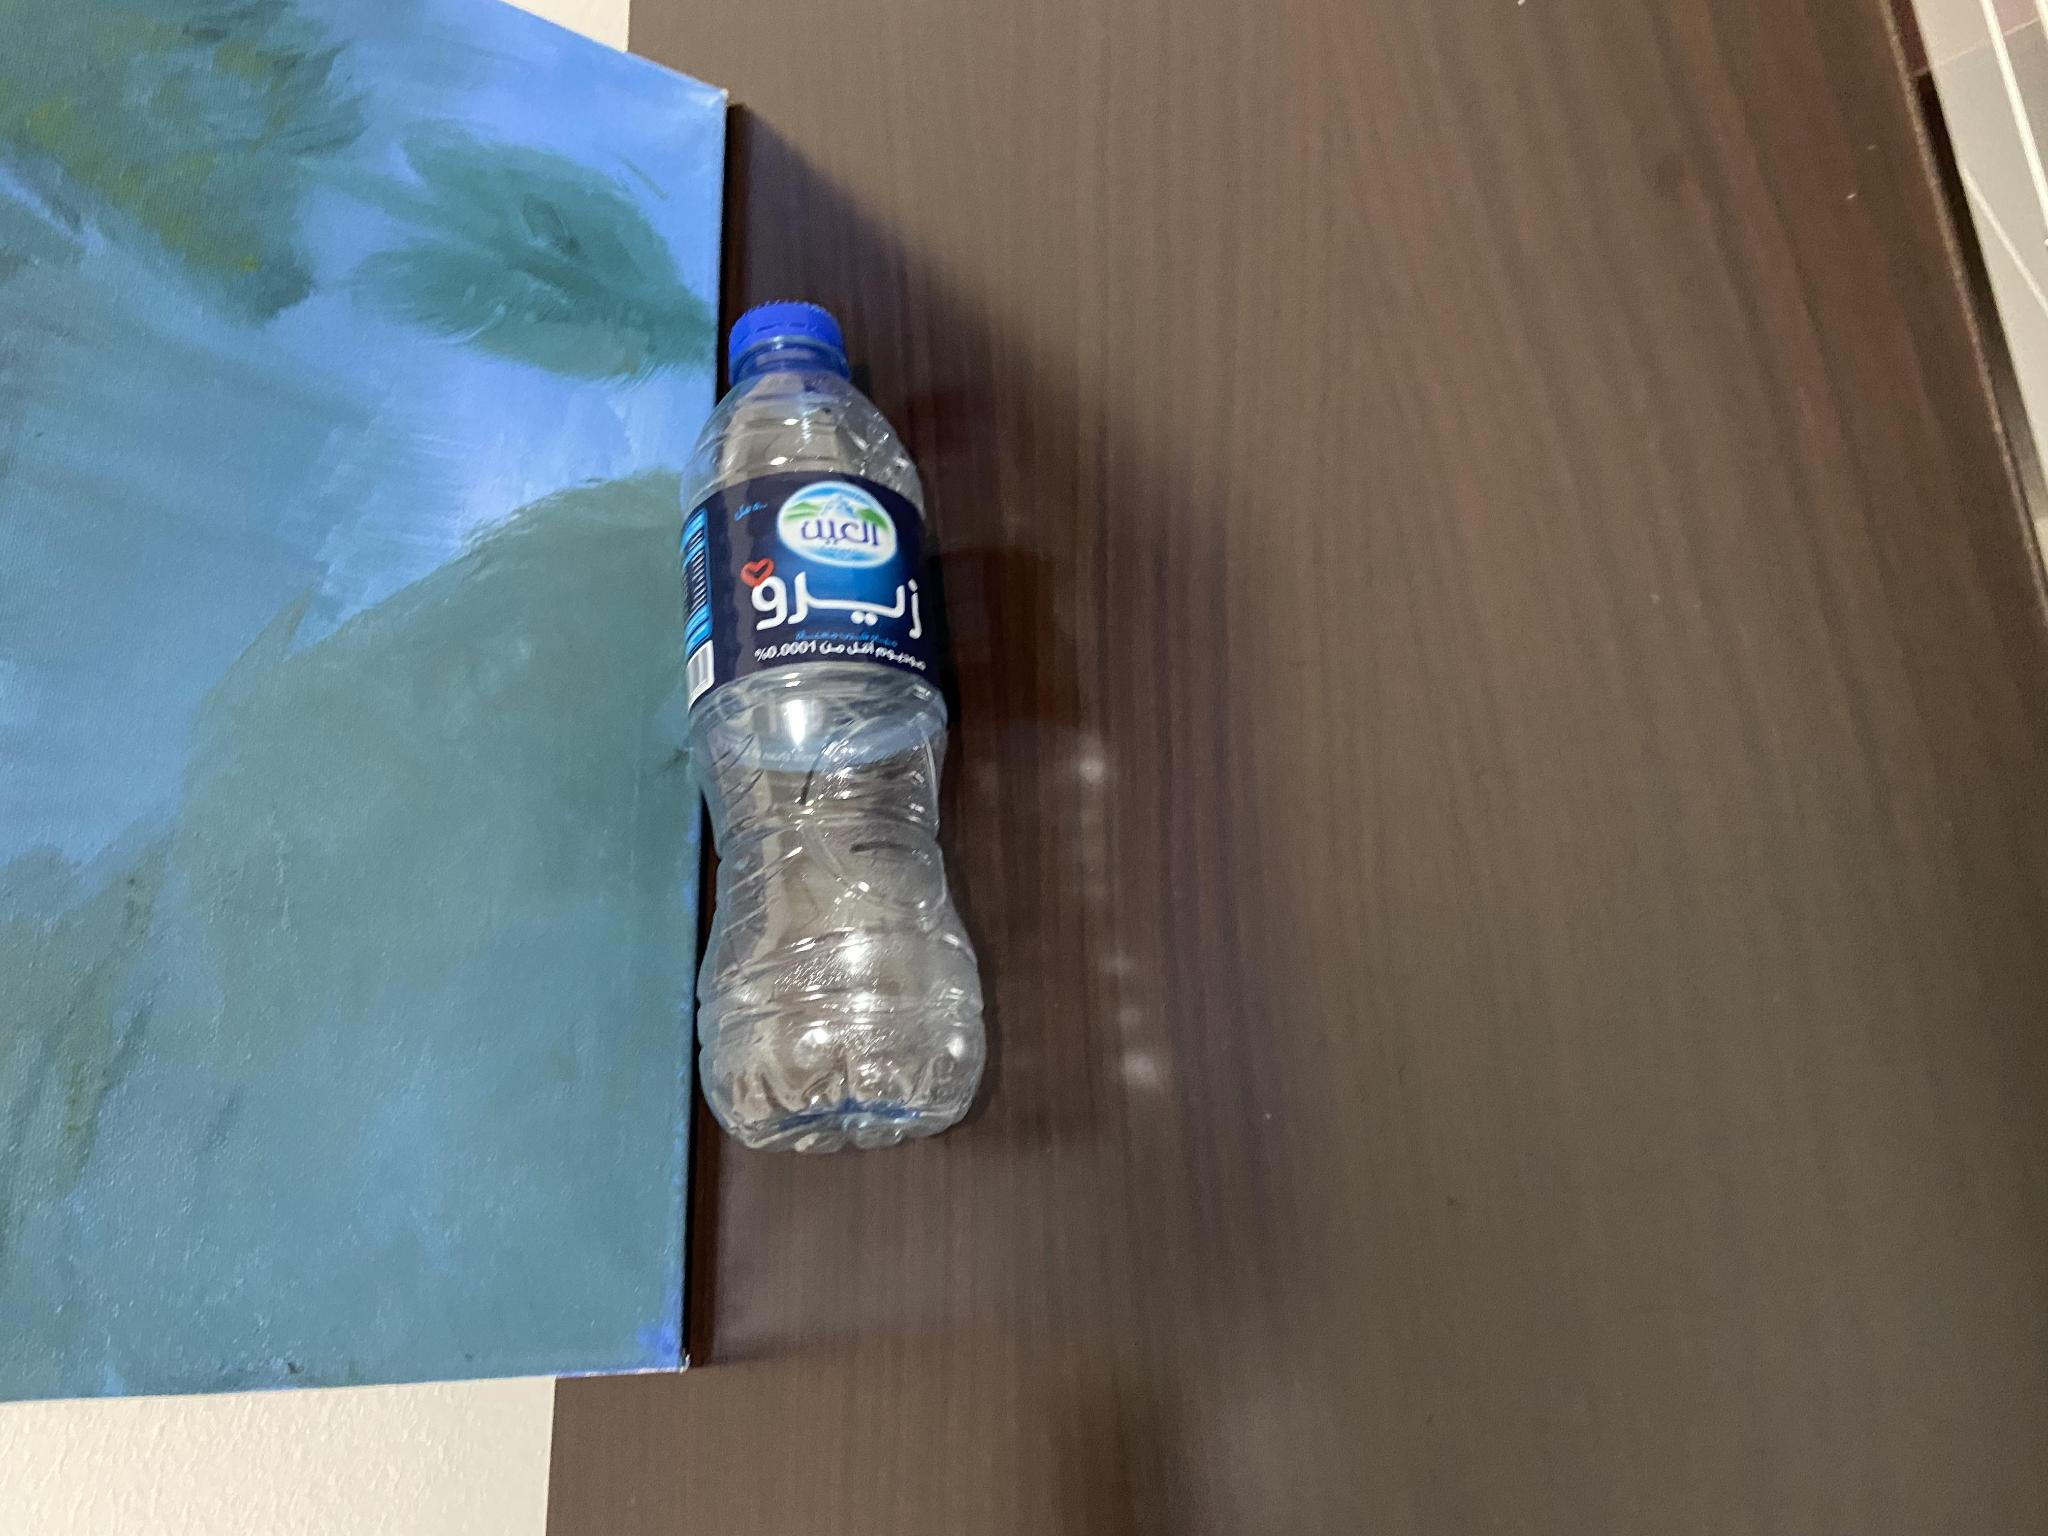bottle: (653, 297, 990, 1175)
